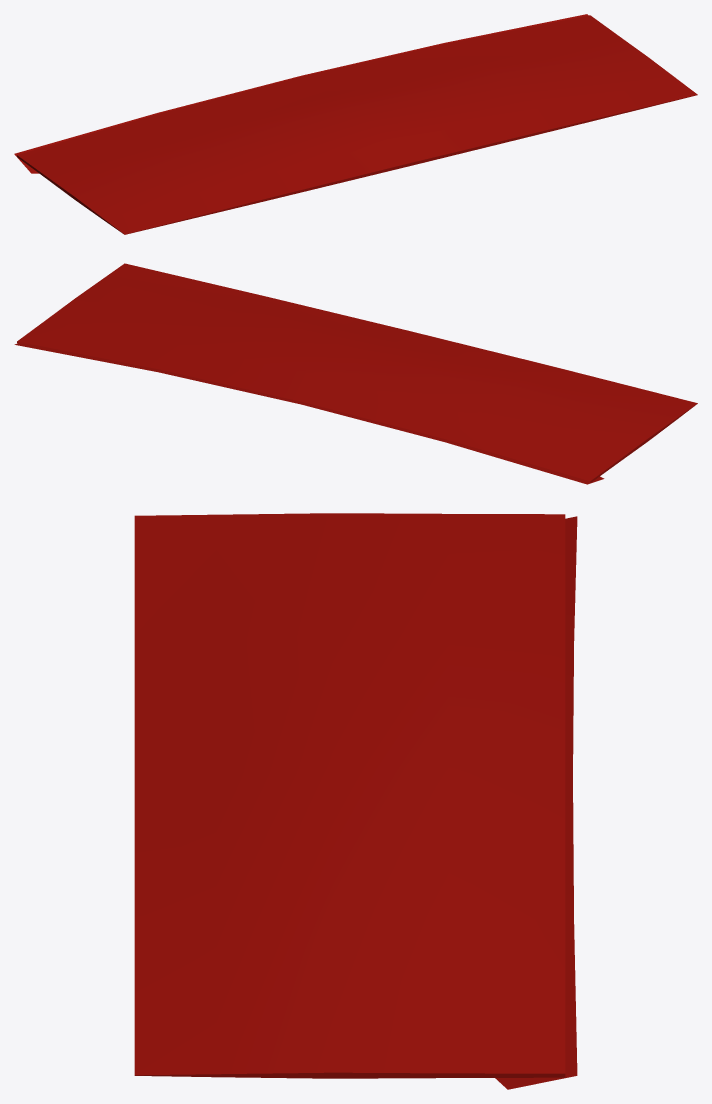
File: GG_ENVELOPE_CLOSED.FBX
3 views of the same model, one above another, from view 1: azimuth 30°, elevation 25°; view 2: azimuth 150°, elevation 25°; view 3: azimuth 270°, elevation 25° (orthographic). The views are drawn at different scales.
Parts seen in each view (by area): view 1: ENVELOPE_SHUT; view 2: ENVELOPE_SHUT; view 3: ENVELOPE_SHUT.
Boxes of the visible parts, <box> form: ENVELOPE_SHUT: <box>14,14,697,234</box>; ENVELOPE_SHUT: <box>14,263,697,484</box>; ENVELOPE_SHUT: <box>134,513,577,1089</box>.
Bounding box in the file's own units: 43.3 × 2.6 × 14.49.
